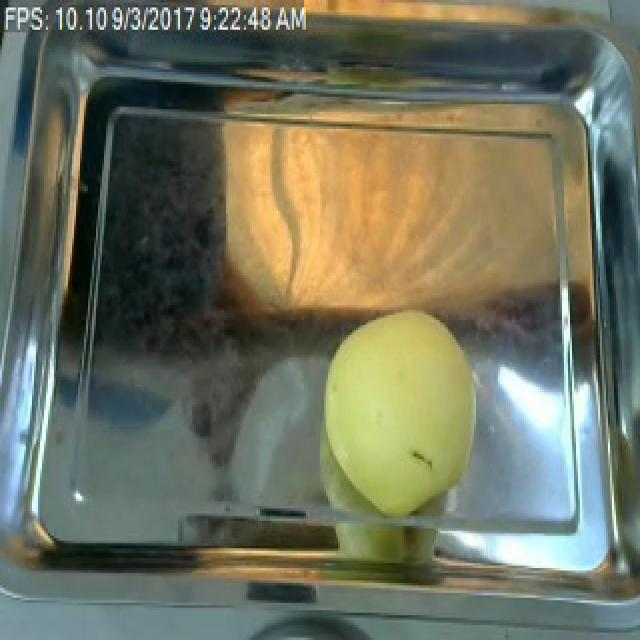Fruit: (302, 300, 490, 526)
